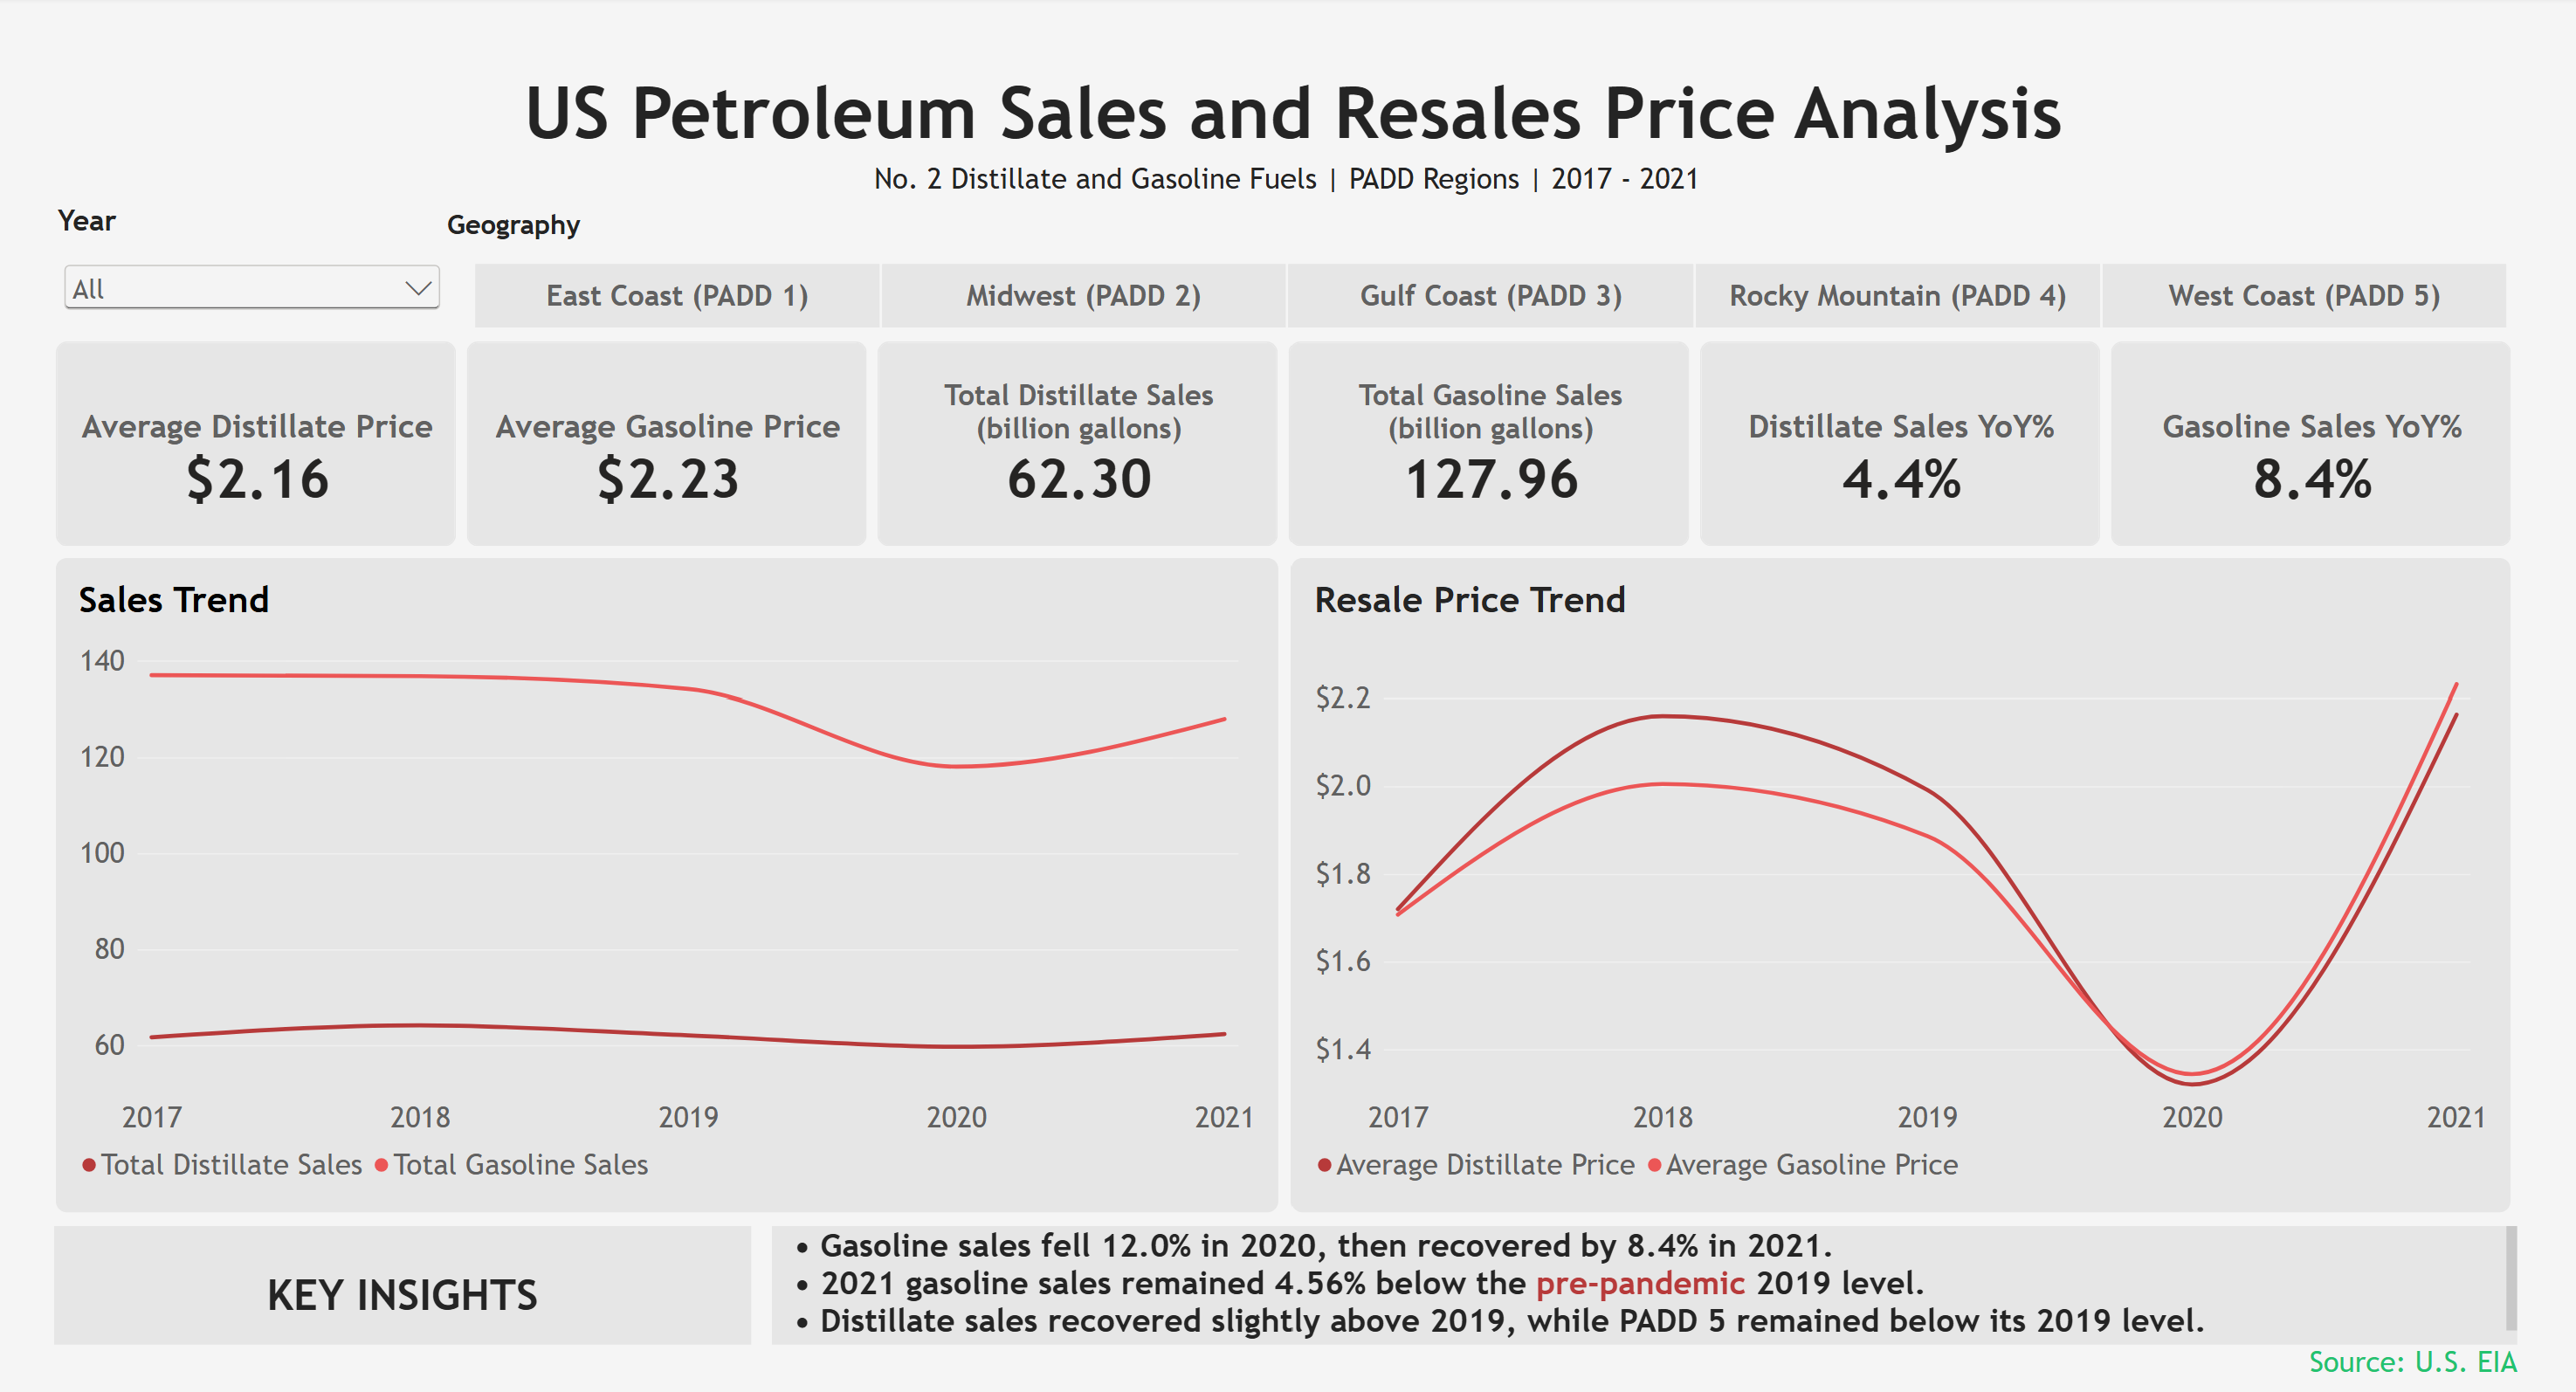

This screenshot's page, from the dashboard's own definition file:
{"tool":"powerbi","page":{"name":"Duplicate of Dashboard","canvas":[1920,1080],"ordinal":0},"visuals":[{"type":"slicer","title":"Geography","fields":{"Values":["DimPADD.Geography"]},"box":[337.4,147.3,1547.2,100.7],"z":0},{"type":"slicer","title":"Year","fields":{"Values":["DimDate.Year"]},"box":[48.5,154.7,288.9,102.5],"z":1000},{"type":"lineChart","title":"Sales Trend","fields":{"Category":["DimDate.Year","DimDate.Year Month"],"Y":["_Measures.Total Distillate Sales","_Measures.Total Gasoline Sales"]},"box":[46.7,417.5,907.6,484.9],"z":2000},{"type":"lineChart","title":"Resale Price Trend","fields":{"Category":["DimDate.Year","DimDate.Year Month"],"Y":["_Measures.Average Distillate Price","_Measures.Average Gasoline Price"]},"box":[963.3,417.5,905,484.9],"z":3000},{"type":"textbox","box":[48.5,55.9,1834.3,80.2],"z":4000},{"type":"cardVisual","fields":{"Data":["_Measures.Average Distillate Price","_Measures.Average Gasoline Price","_Measures.Total Distillate Sales","_Measures.Total Gasoline Sales","No 2 Distillate Sales.Distillate Sales YoY%","Gasoline Sales.Gasoline Sales YoY%"]},"box":[46.6,257.2,1826.8,152.9],"z":5000},{"type":"textbox","box":[48.5,123,1824.9,31.7],"z":6000},{"type":"textbox","box":[1719.2,1000.9,202.3,27.2],"z":7000},{"type":"textbox","box":[578.2,912.7,1295.2,88.2],"z":8000},{"type":"textbox","box":[45.4,912.7,517.3,88.2],"z":8001}]}

Visuals, with their boxes on the page's 1920x1080 design canvas (x1, y1, x2, y2). These are canvas units, not pixel positions in the 2576x1392 screenshot, which may show the page scaled, cropped or inside an application window:
"Geography" slicer: bbox=(337, 147, 1885, 248)
"Year" slicer: bbox=(48, 155, 337, 257)
"Sales Trend" lineChart: bbox=(47, 418, 954, 902)
"Resale Price Trend" lineChart: bbox=(963, 418, 1868, 902)
textbox: bbox=(48, 56, 1883, 136)
cardVisual - _Measures.Average Distillate Price x _Measures.Average Gasoline Price: bbox=(47, 257, 1873, 410)
textbox: bbox=(48, 123, 1873, 155)
textbox: bbox=(1719, 1001, 1922, 1028)
textbox: bbox=(578, 913, 1873, 1001)
textbox: bbox=(45, 913, 563, 1001)
